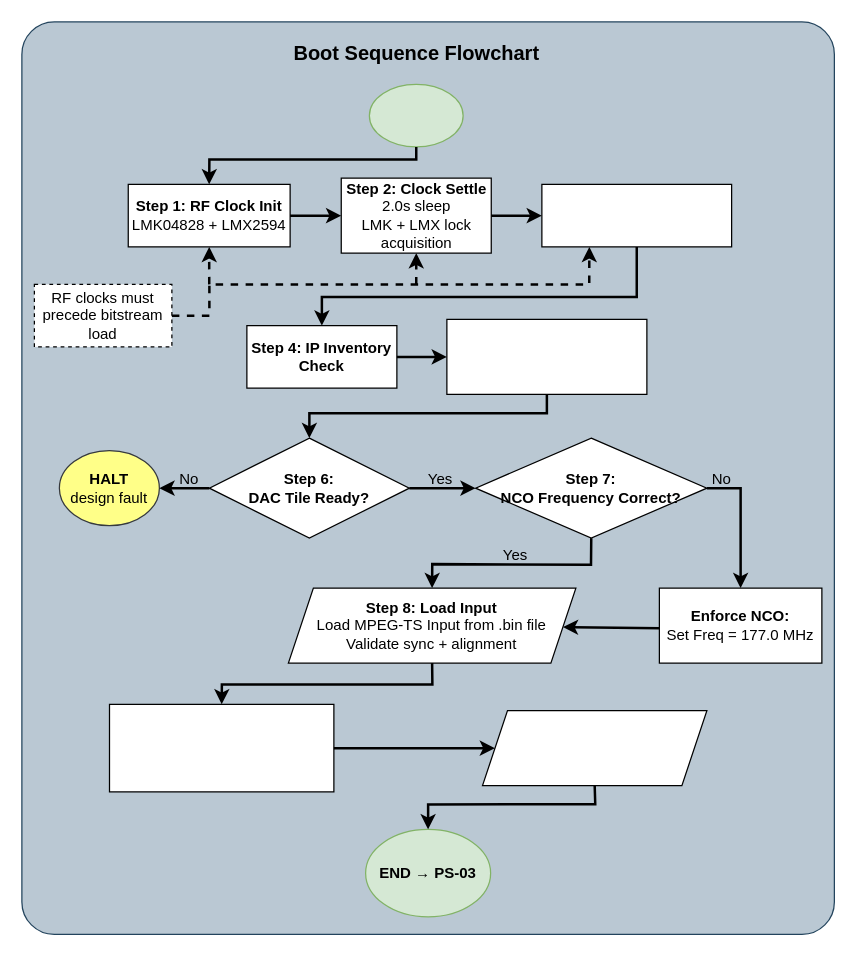
The diagram is 856 pixels wide and 956 high, and some of its shapes have lost their labels. Each missing label, with the box of its shape:
START: (368, 83, 463, 147)
Step 10: Handoff to PS-03 data_buf + length: (481, 709, 707, 786)
Step 3: Load Overlay Bitstream + IP map (.hwh): (541, 183, 732, 247)
Step 5: PL-11 Register Init FRAME_SYNC_CW = 0x0 to anspect_ctrl_regs: (446, 318, 647, 394)
Step 9: DDR Buffer Allocation Copy .bin file + Flush: (108, 703, 334, 792)
